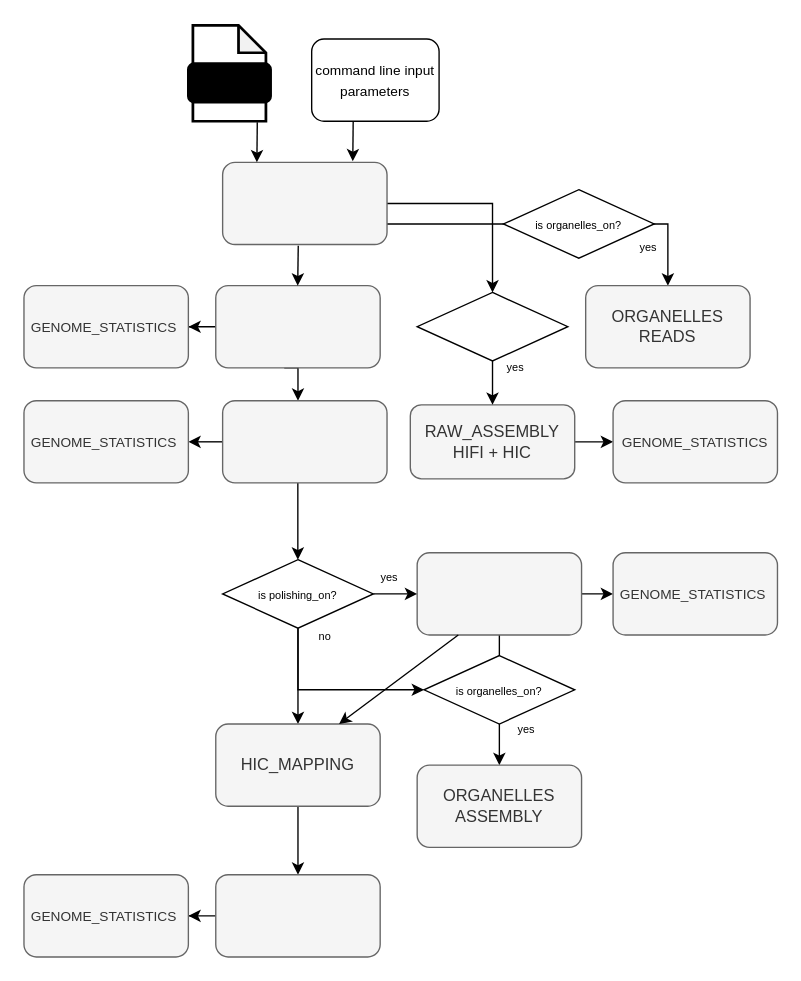
This 801x981 diagram has some shape labels left out. The centre of each missing label's shape, as x and y in pixels:
is hifiasm_hic_on?: pixel 492 326
POLISHING: pixel 499 593
PREPARE_INPUT: pixel 304 203
PURGE_DUPS: pixel 304 441
RAW_ASSEMBLY HIFI: pixel 297 326
SCAFFOLDING: pixel 297 915
YAML: pixel 228 82
